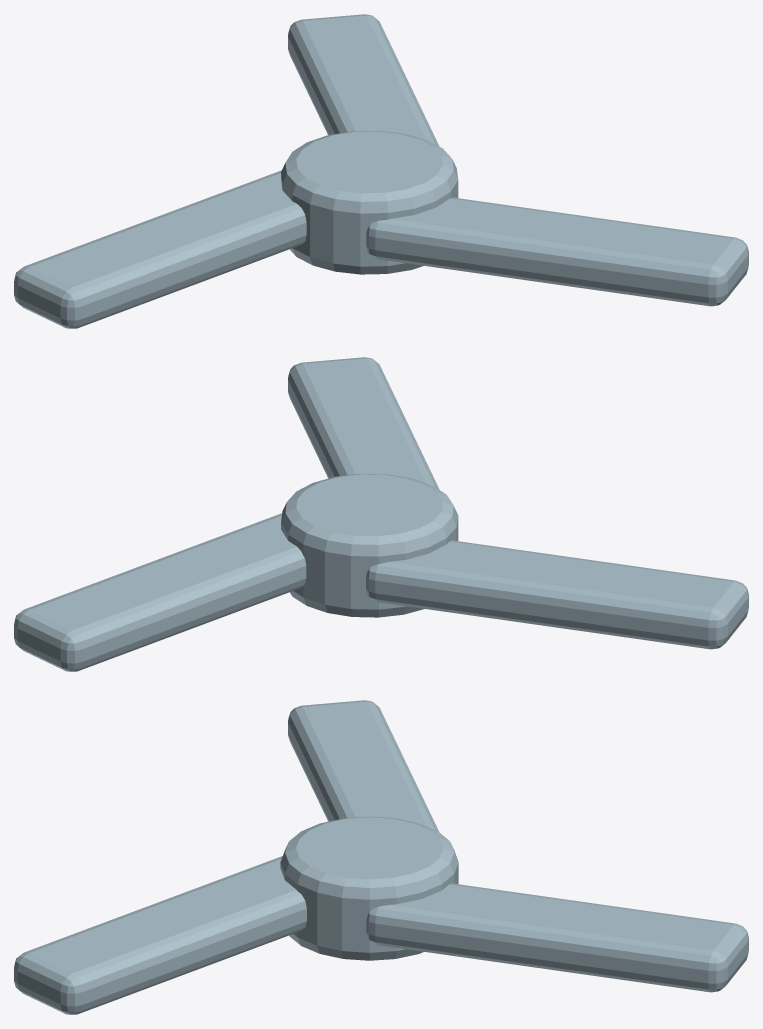
Rendered from SM_EnemyRotor.fbx.
3 renders of one model, top to bottom at view 1: azimuth 30°, elevation 25°; view 2: azimuth 150°, elevation 25°; view 3: azimuth 270°, elevation 25°, orthographic.
Visible parts, largest first — view 1: SM_EnemyRotor; view 2: SM_EnemyRotor; view 3: SM_EnemyRotor.
Part boxes in pixels (x1=…): SM_EnemyRotor: x1=14, y1=14, x2=748, y2=328; SM_EnemyRotor: x1=14, y1=357, x2=748, y2=671; SM_EnemyRotor: x1=14, y1=700, x2=748, y2=1014.
Bounding box in the file's own units: 52.93 × 57.72 × 7.
